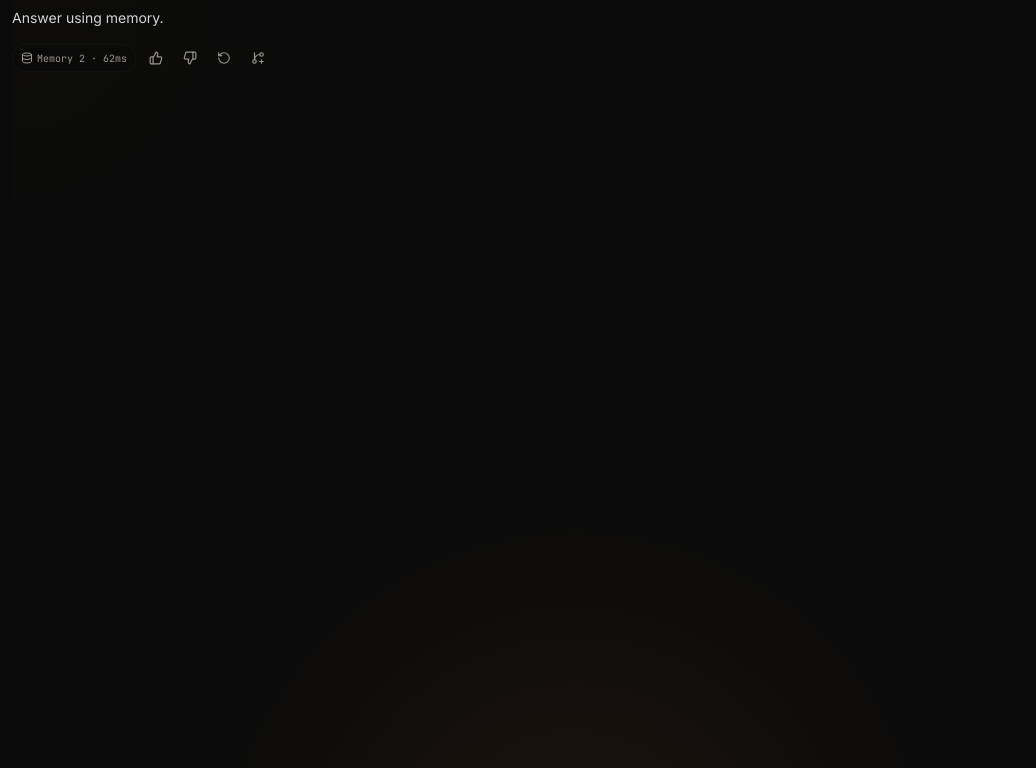
Test: AgentMessage memory trace › shows a compact memory badge and opens the inline inspector
Expected: the text "Memory trace" is not shown
Click the button with aria-label "Memory trace: 2 memories used" at (74, 58), box top-left (12, 44), bottom-right (136, 72)
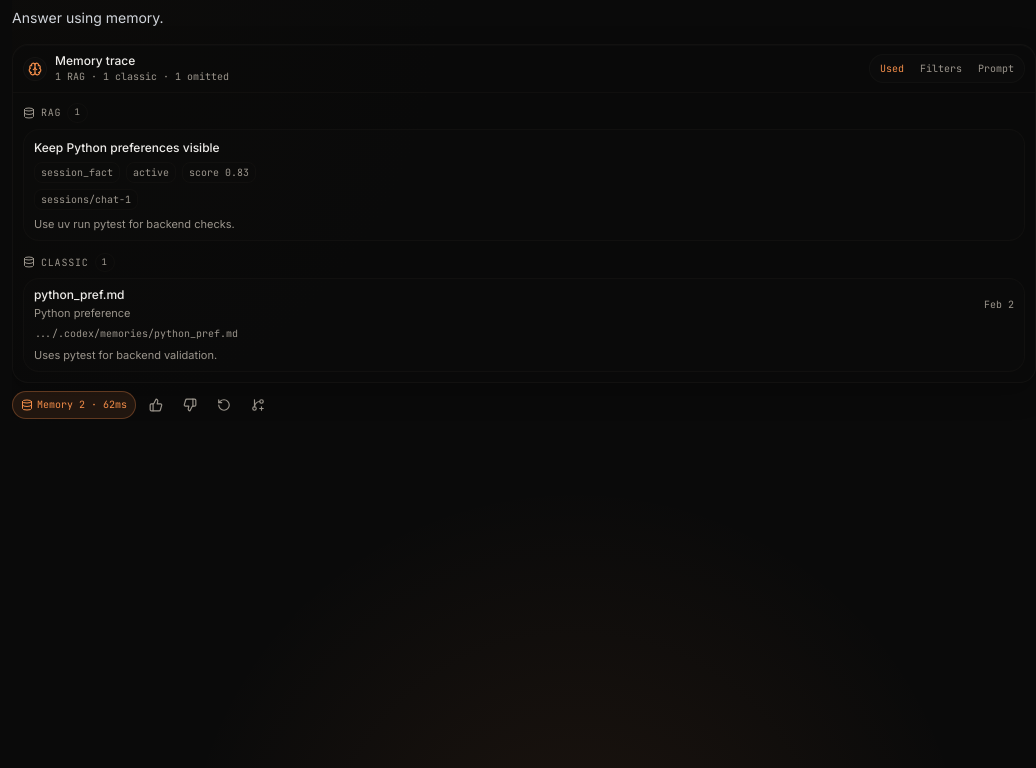
Now the text "Memory trace" is shown, box top-left (55, 53), bottom-right (135, 68)
Now the text "Keep Python preferences visible" is shown, box top-left (34, 140), bottom-right (220, 154)
Now the text "python_pref.md" is shown, box top-left (34, 287), bottom-right (130, 303)
Click the button "Filters" at (941, 68), box top-left (912, 57), bottom-right (970, 80)
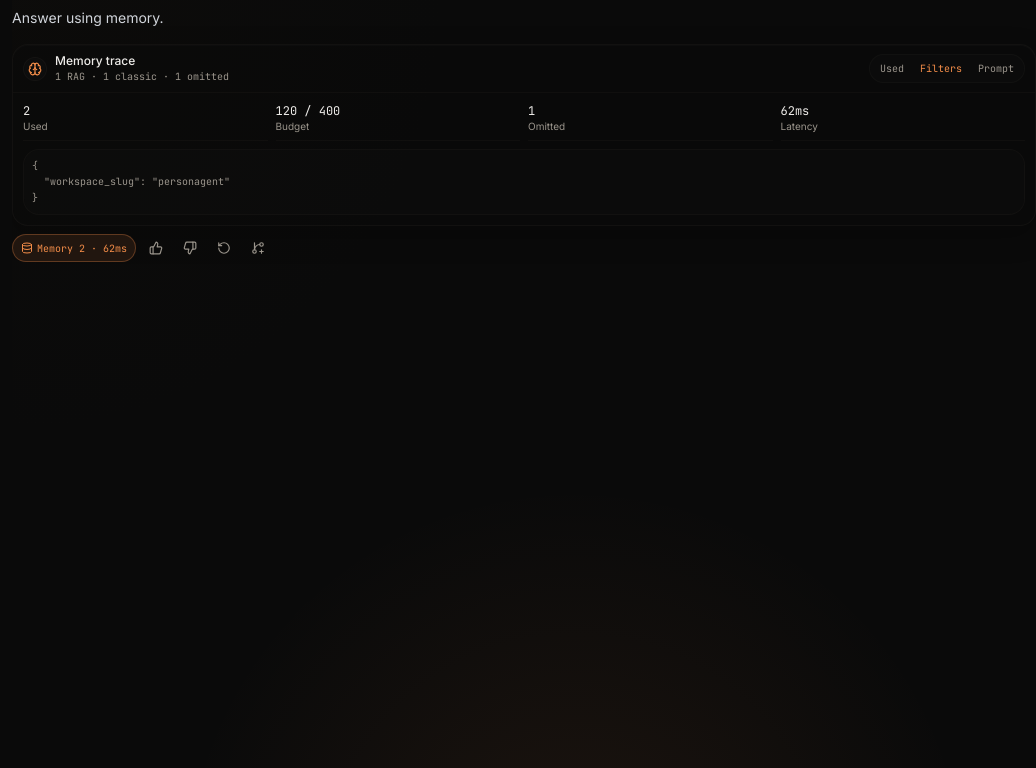
Now the text "62ms" is shown, box top-left (780, 103), bottom-right (809, 119)
Now the text "{ \"workspace_slug\": \"personagent\" }" is shown, box top-left (23, 149), bottom-right (1025, 215)
Click the button "Prompt" at (996, 68), box top-left (970, 57), bottom-right (1022, 80)
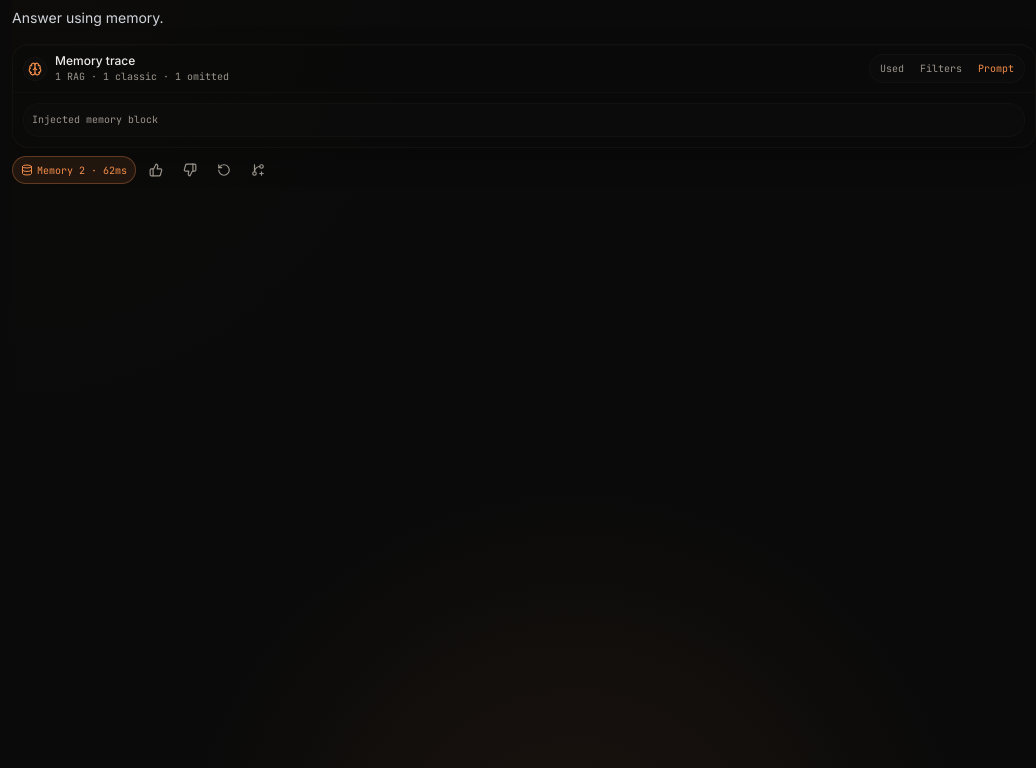
Now the text "Injected memory block" is shown, box top-left (23, 103), bottom-right (1025, 137)
